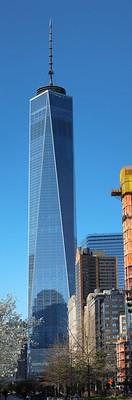building: (24, 82, 77, 384)
